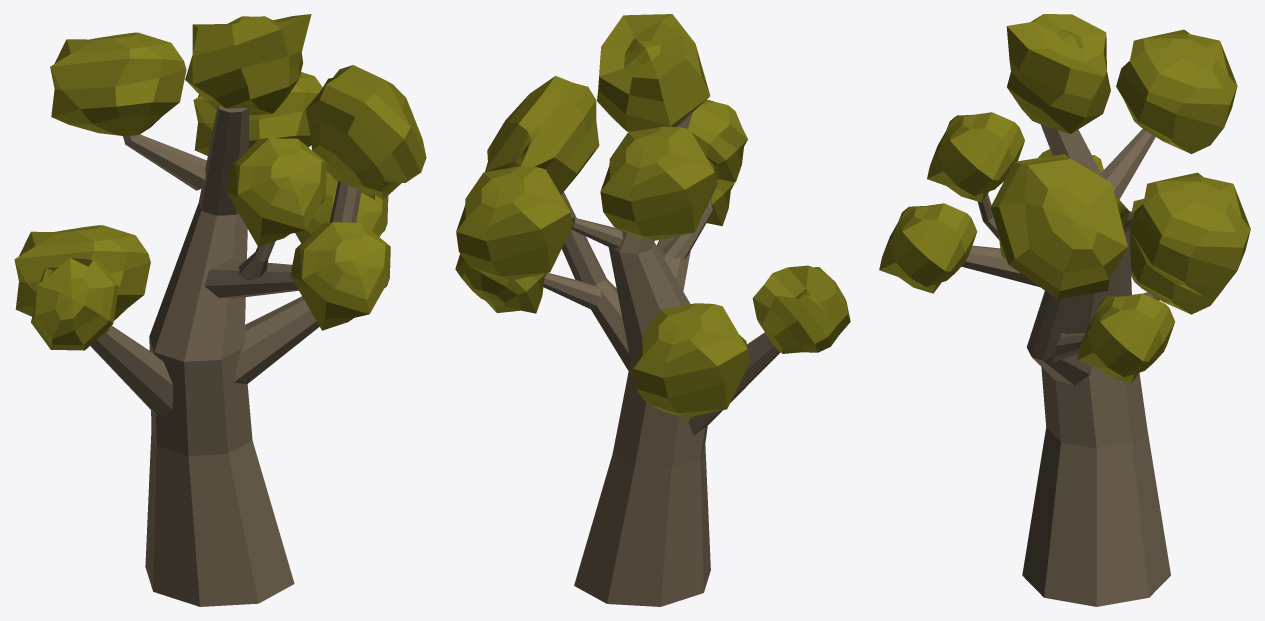
File: Arbol2.fbx
The picture shows the model from 3 angles, left to right: view 1: azimuth 30°, elevation 25°; view 2: azimuth 150°, elevation 25°; view 3: azimuth 270°, elevation 25°; orthographic projection. The views are drawn at different scales.
Parts seen in each view (by area): view 1: polySurface5; view 2: polySurface5; view 3: polySurface5.
Part boxes in pixels (box(x1,y1,x2,y2)): polySurface5: box(14, 14, 426, 606); polySurface5: box(455, 14, 850, 606); polySurface5: box(879, 14, 1250, 606).
Size of the model in its own units: 0.2857 by 0.4102 by 0.247.
